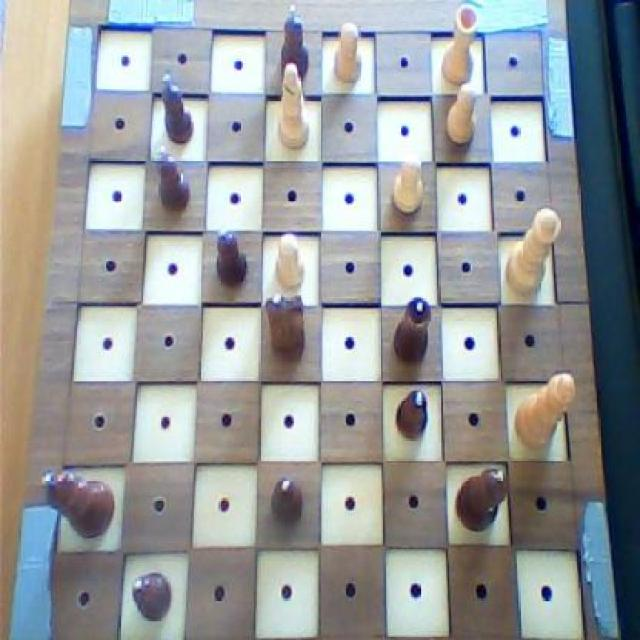black-bishop: (36, 466, 114, 539)
black-king: (258, 288, 307, 370)
black-knight: (156, 68, 194, 148), (152, 142, 192, 216), (276, 5, 312, 80), (211, 226, 250, 292), (130, 568, 174, 623), (270, 472, 306, 532), (394, 385, 430, 443)
black-pawn: (452, 461, 512, 534)
black-queen: (389, 294, 432, 368)
black-rook: (274, 58, 316, 152)
white-bishop: (514, 369, 578, 454)
white-knight: (443, 78, 480, 150), (390, 151, 428, 220), (272, 224, 308, 292), (331, 20, 363, 85)
white-pawn: (505, 203, 562, 302)
white-queen: (437, 1, 481, 86)
